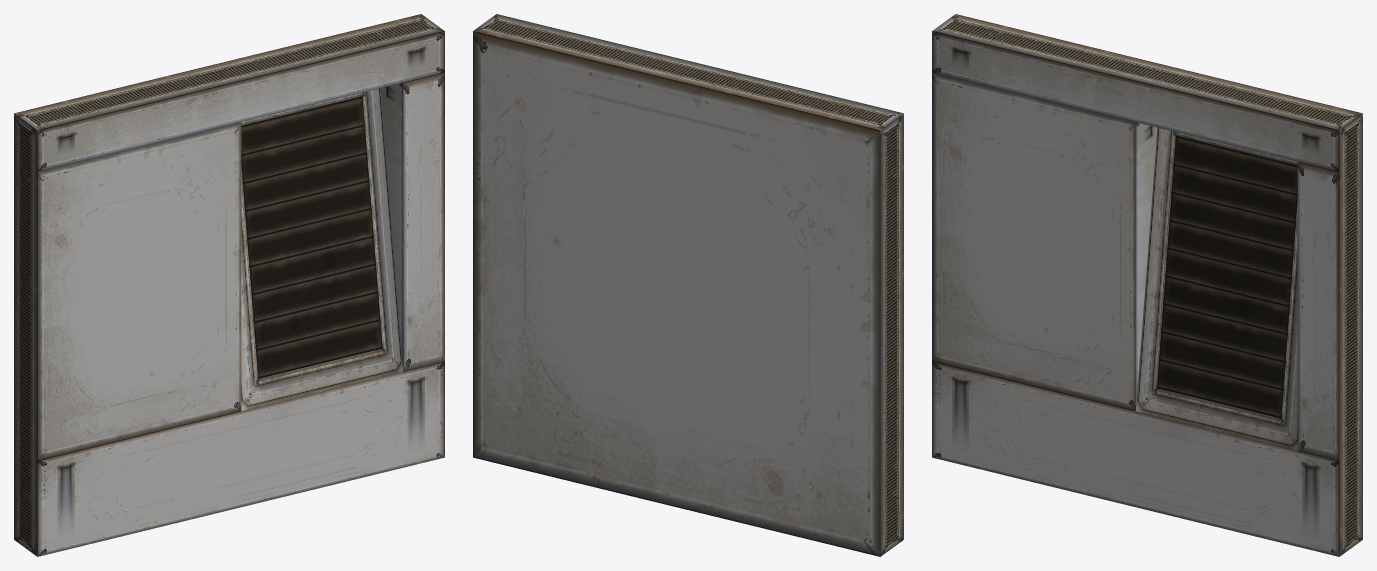
File: scifi_wall7_1.FBX
3 views of the same model, side by side, from view 1: azimuth 30°, elevation 25°; view 2: azimuth 150°, elevation 25°; view 3: azimuth 330°, elevation 25° (orthographic).
Parts seen in each view (by area): view 1: Plane031; view 2: Plane031; view 3: Plane031.
Part boxes in pixels (<box>): Plane031: <box>14,14,444,556</box>; Plane031: <box>473,14,903,556</box>; Plane031: <box>932,14,1362,556</box>.
Size of the model in its own units: 254 by 254 by 25.4.
